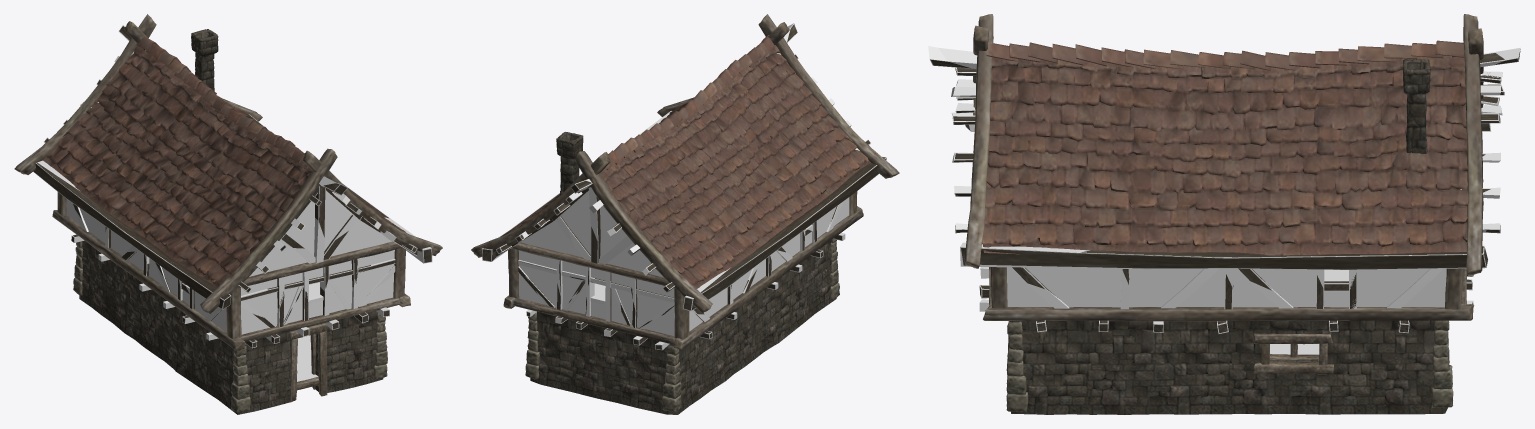
Rendered from Common_House.fbx.
3 renders of one model, left to right at view 1: azimuth 30°, elevation 25°; view 2: azimuth 150°, elevation 25°; view 3: azimuth 270°, elevation 25°, orthographic. The views are drawn at different scales.
Visible parts, largest first — view 1: CommonHouse_Roof, CommonHouse_StonesWBeams, CommonHouse_Wood_Coll, CommonHouse_Wall_Out, CommonHouse_Wood, CommonHouse_Chimney; view 2: CommonHouse_Roof, CommonHouse_Wall_Out, CommonHouse_Wood_Coll, CommonHouse_StonesWBeams, CommonHouse_Wood, CommonHouse_Chimney; view 3: CommonHouse_Roof, CommonHouse_Wall_Out, CommonHouse_Wood_Coll, CommonHouse_StonesWBeams, CommonHouse_Wood, CommonHouse_Chimney.
Boxes of the visible parts, x1,y1,x2,y2 form: CommonHouse_Roof: (43,37,406,287); CommonHouse_StonesWBeams: (14,14,442,412); CommonHouse_Wood_Coll: (33,25,432,381); CommonHouse_Wall_Out: (79,240,383,414); CommonHouse_Wood: (33,26,431,347); CommonHouse_Chimney: (191,29,218,90); CommonHouse_Roof: (503,35,870,288); CommonHouse_Wall_Out: (530,240,836,414); CommonHouse_Wood_Coll: (482,23,886,350); CommonHouse_StonesWBeams: (471,14,899,412); CommonHouse_Wood: (482,24,886,349); CommonHouse_Chimney: (556,132,583,195); CommonHouse_Roof: (982,40,1468,255); CommonHouse_Wall_Out: (1011,320,1449,414); CommonHouse_Wood_Coll: (928,46,1520,354); CommonHouse_StonesWBeams: (964,14,1483,411); CommonHouse_Wood: (931,51,1520,332); CommonHouse_Chimney: (1402,59,1430,153).
Size of what is drawn, in the model's own units: 1130 by 1142 by 1761.
